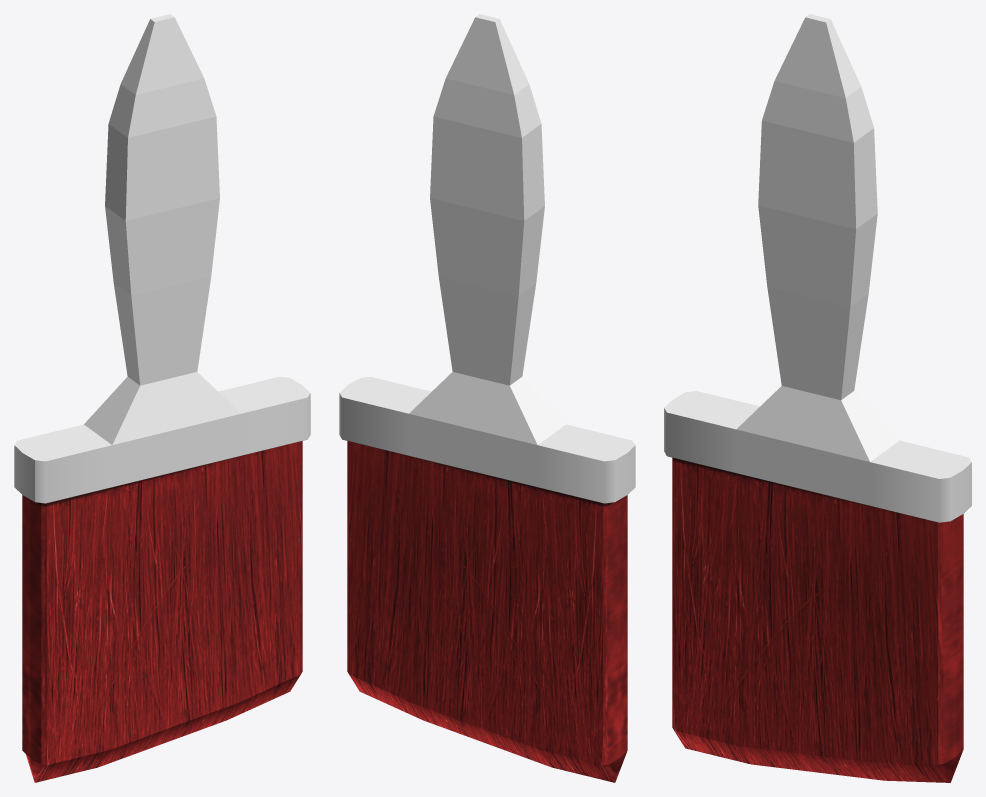
File: brush.FBX
3 views of the same model, side by side, from view 1: azimuth 30°, elevation 25°; view 2: azimuth 150°, elevation 25°; view 3: azimuth 330°, elevation 25° (orthographic). The views are drawn at different scales.
Parts seen in each view (by area): view 1: brush; view 2: brush; view 3: brush.
Part boxes in pixels (box(x1,y1,x2,y2)): brush: box(14, 14, 310, 782); brush: box(339, 14, 635, 782); brush: box(664, 14, 971, 782).
Size of the model in its own units: 76.28 by 192 by 13.44.
